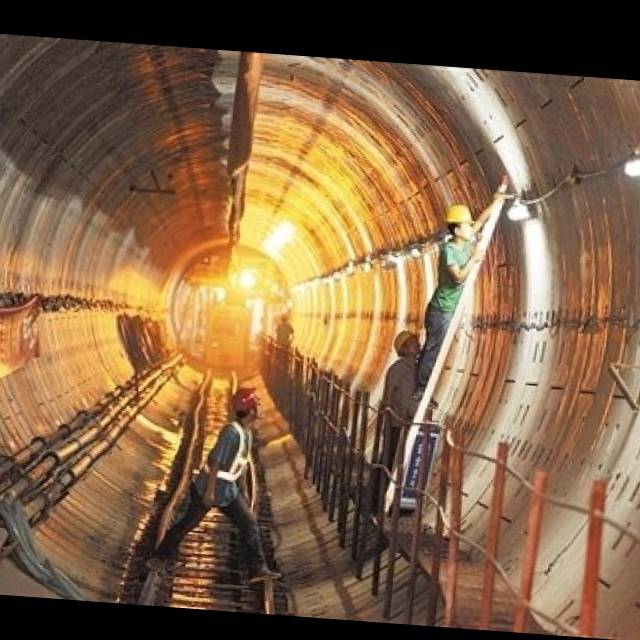Con_Casco: (445, 204, 475, 240), (392, 326, 422, 362), (230, 387, 258, 423)
